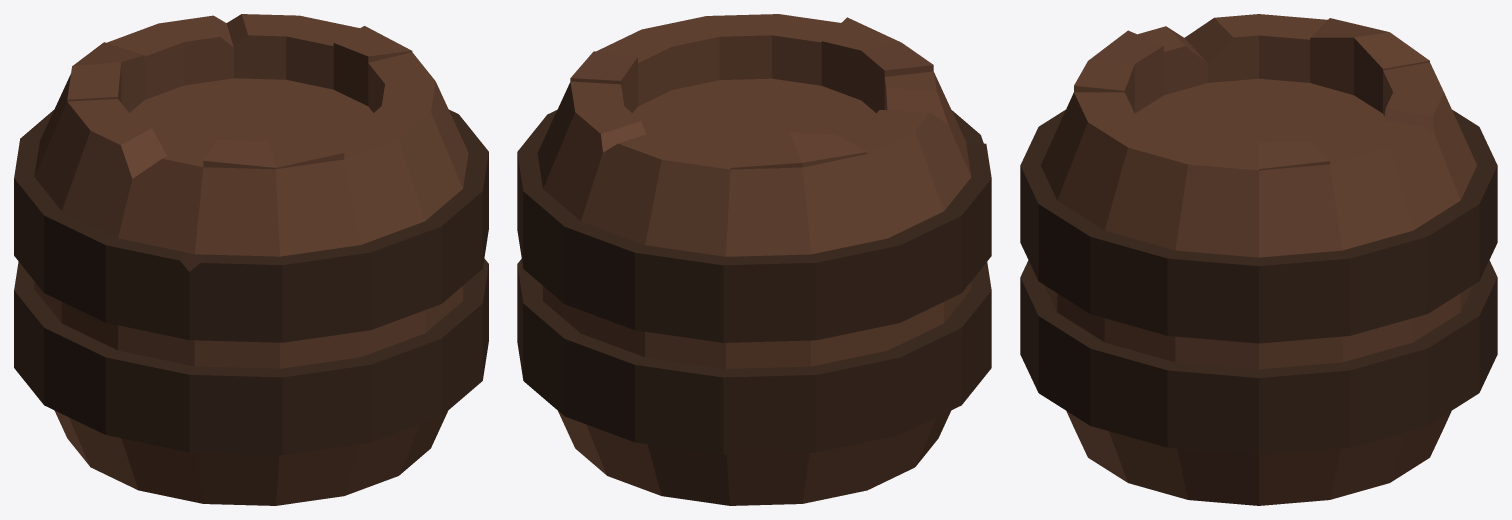
File: Fass.fbx
3 renders of one model, left to right at view 1: azimuth 30°, elevation 25°; view 2: azimuth 150°, elevation 25°; view 3: azimuth 270°, elevation 25°, orthographic.
Parts seen in each view (by area): view 1: Fass; view 2: Fass; view 3: Fass.
Part boxes in pixels (x1,y1,x2,y2): Fass: (14,14,488,505); Fass: (517,14,991,505); Fass: (1020,14,1497,505).
Size of the model in its own units: 258 by 209 by 258.
